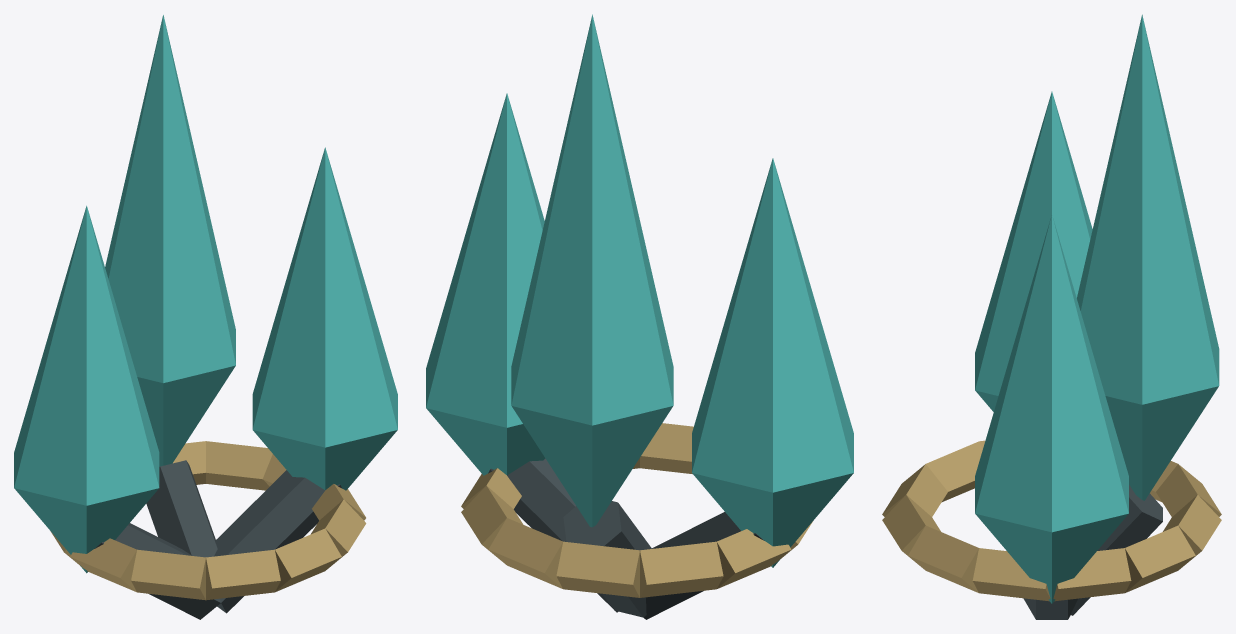
Rendered from Equip_RuneScatter.fbx.
3 views of the same model, side by side, from view 1: azimuth 30°, elevation 25°; view 2: azimuth 150°, elevation 25°; view 3: azimuth 270°, elevation 25° (orthographic). The views are drawn at different scales.
Parts seen in each view (by area): view 1: Equip_RuneScatter; view 2: Equip_RuneScatter; view 3: Equip_RuneScatter.
Part boxes in pixels (bbox=[...]): Equip_RuneScatter: bbox=[14, 15, 397, 619]; Equip_RuneScatter: bbox=[426, 14, 853, 619]; Equip_RuneScatter: bbox=[882, 14, 1221, 619].
Bounding box in the file's own units: 0.338 × 0.4762 × 0.2448.
